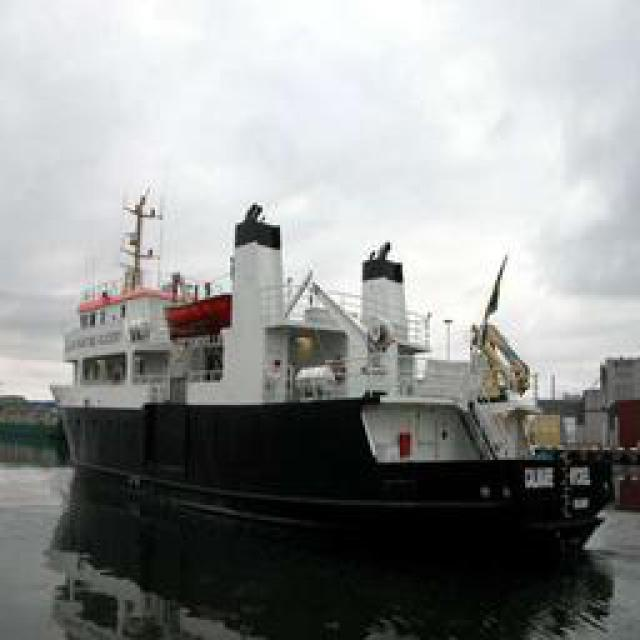Ship: (63, 188, 621, 553)
